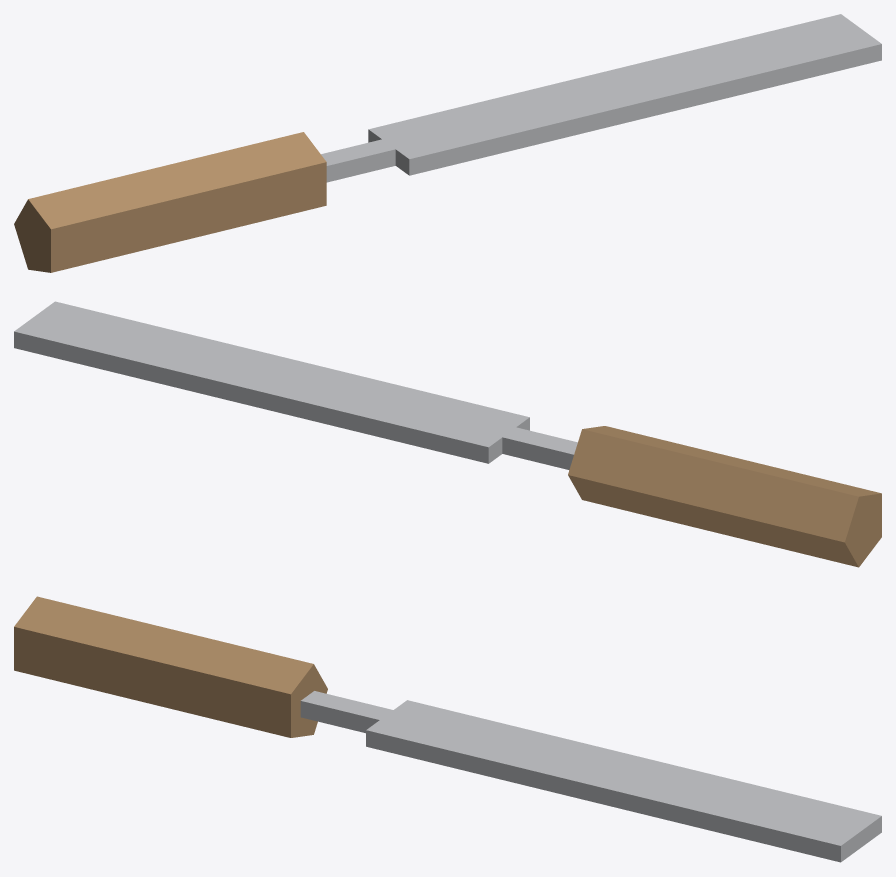
File: prop-rasp-blank-ss1.fbx
The picture shows the model from 3 angles, top to bottom: view 1: azimuth 30°, elevation 25°; view 2: azimuth 150°, elevation 25°; view 3: azimuth 330°, elevation 25°; orthographic projection.
Visible parts, largest first — view 1: prop-rasp-blank-ss1; view 2: prop-rasp-blank-ss1; view 3: prop-rasp-blank-ss1.
Part boxes in pixels (x1,y1,x2,y2): prop-rasp-blank-ss1: (14,14,881,272); prop-rasp-blank-ss1: (14,301,881,567); prop-rasp-blank-ss1: (14,596,881,862).
Size of the model in its own units: 21 by 1.71 by 1.8.
